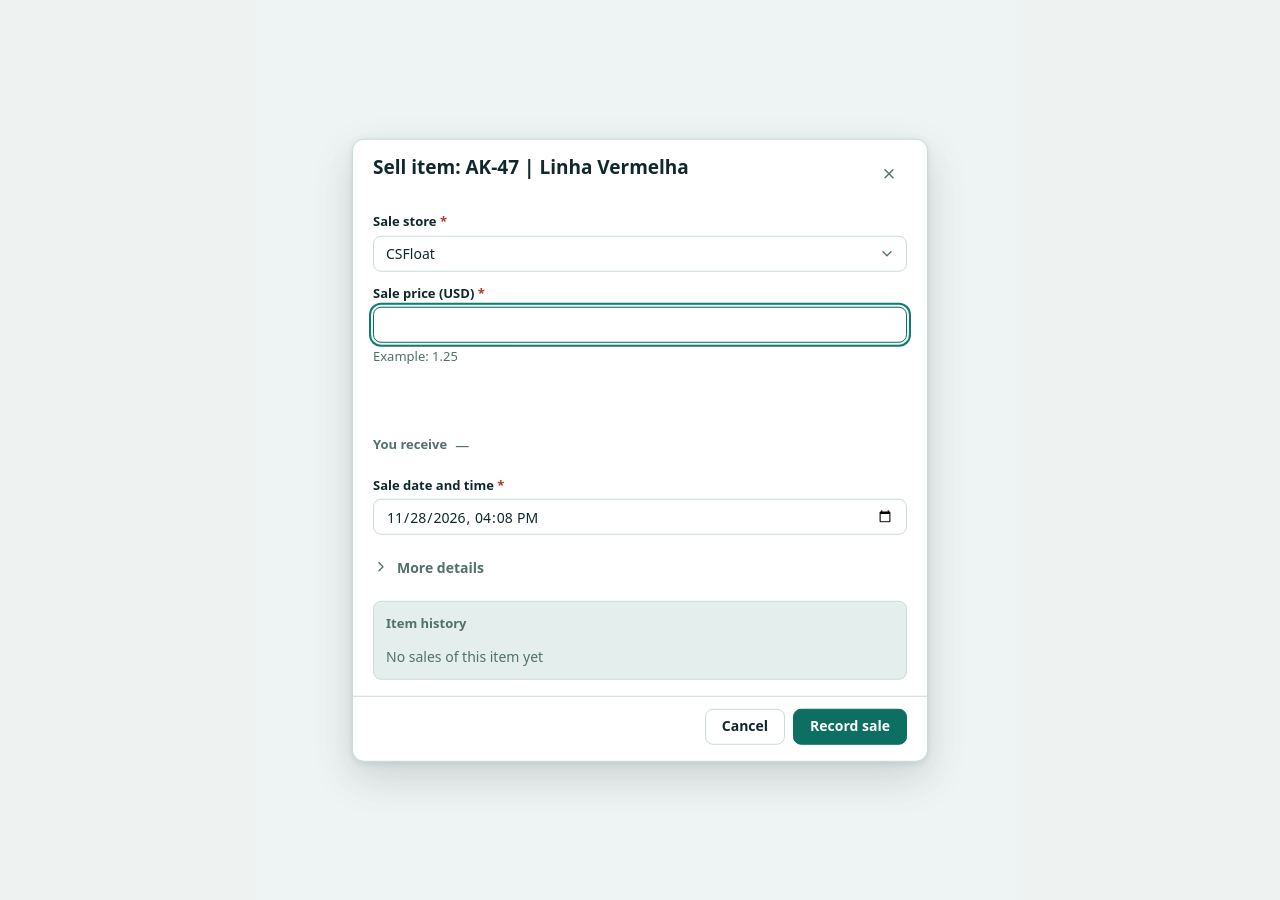
Test: SellItemModal: loja com taxas configuradas › preço vazio: o resumo de erros aparece e nada é enviado
Click the button "Record sale": (850, 726) [793,708,907,744]
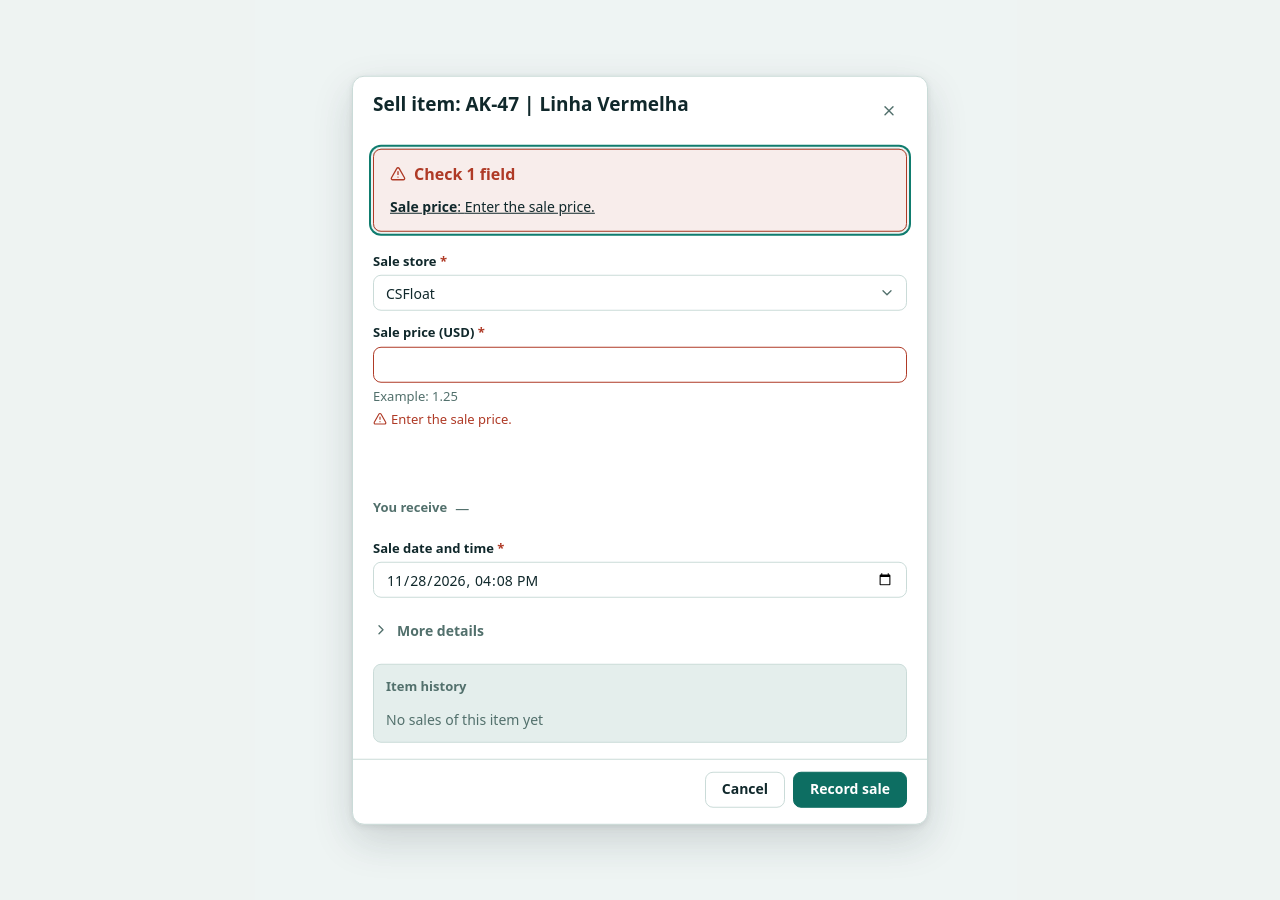
Result: the message shows "Enter the sale price." at [390,194,595,218]
